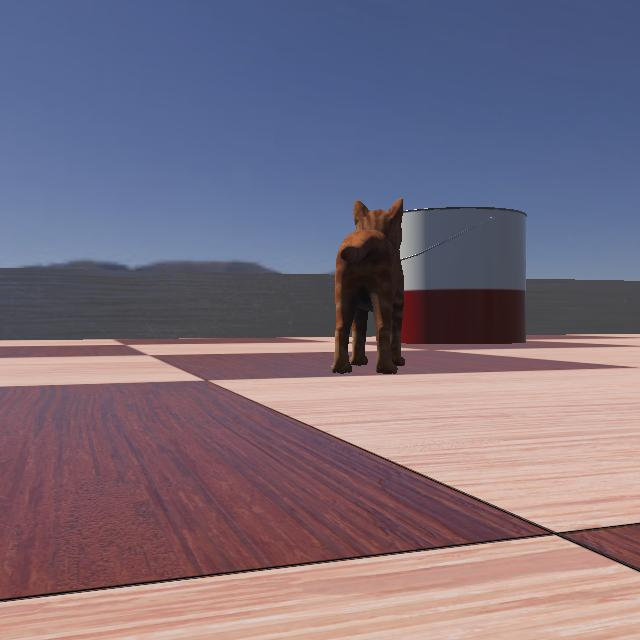cat: (325, 138, 449, 386), (325, 138, 449, 386)
paint-bucket: (346, 202, 556, 346)
